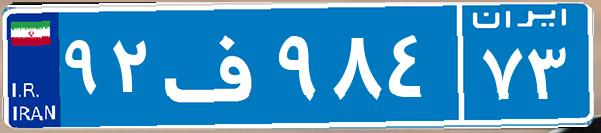2: (110, 28, 158, 105)
3: (525, 38, 570, 115)
4: (385, 28, 445, 110)
7: (475, 38, 525, 113)
8: (330, 28, 385, 110)
9: (273, 28, 330, 110), (57, 26, 110, 107)
ف: (158, 15, 273, 115)
